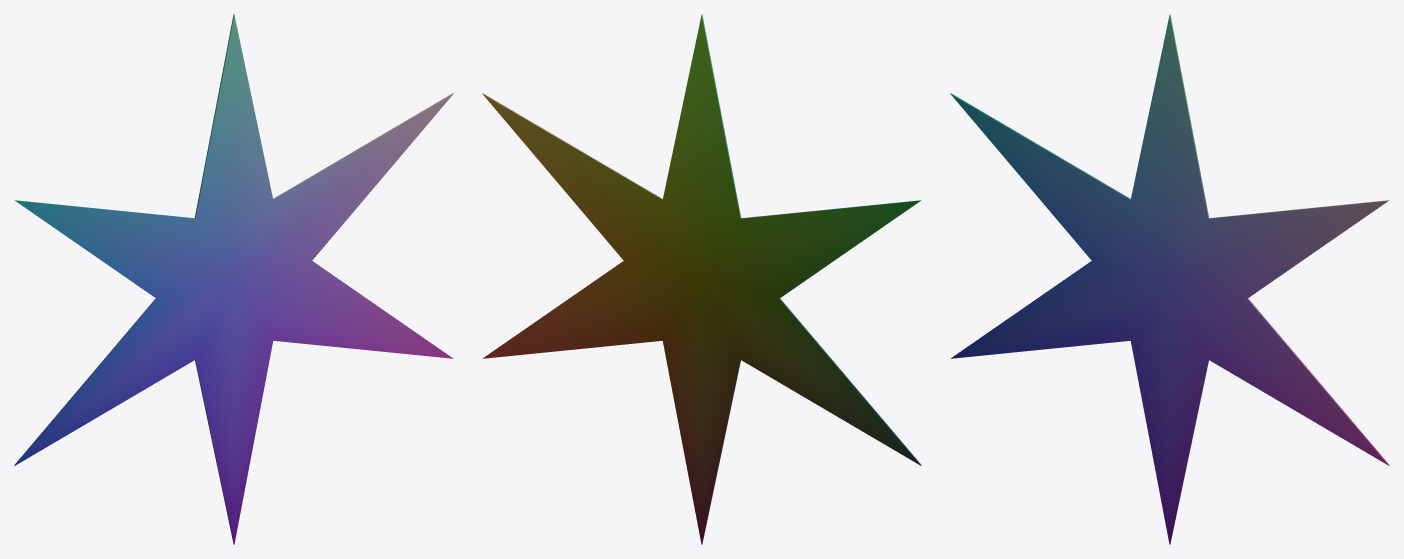
Rendered from zeometry-flat-shapes-flat-star_v9.glb.
The picture shows the model from 3 angles, left to right: view 1: azimuth 30°, elevation 25°; view 2: azimuth 150°, elevation 25°; view 3: azimuth 330°, elevation 25°; orthographic projection.
Visible parts, largest first — view 1: Flat Star_v9; view 2: Flat Star_v9; view 3: Flat Star_v9.
Boxes of the visible parts, bbox=[...] form: Flat Star_v9: bbox=[14, 14, 453, 544]; Flat Star_v9: bbox=[482, 14, 921, 544]; Flat Star_v9: bbox=[950, 14, 1389, 544].
Size of the model in its own units: 0.433 by 0.5 by 0.00133.
